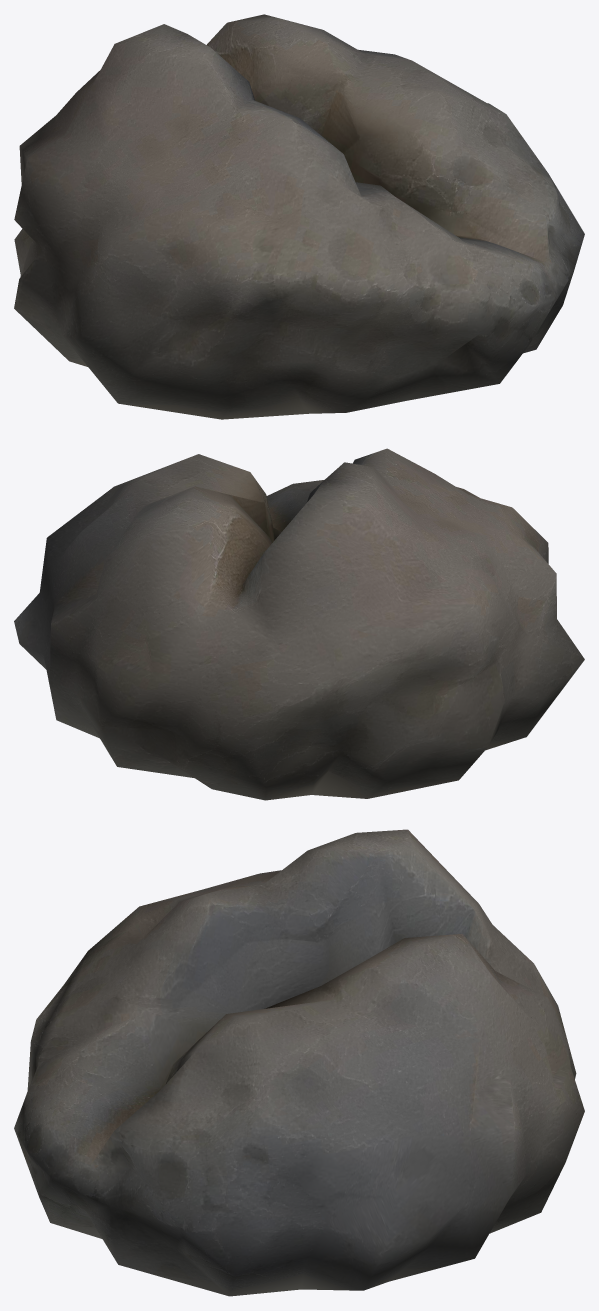
The model's file is legacy_asteroid_03.glb.
3 renders of one model, top to bottom at view 1: azimuth 30°, elevation 25°; view 2: azimuth 150°, elevation 25°; view 3: azimuth 270°, elevation 25°, orthographic. The views are drawn at different scales.
Parts seen in each view (by area): view 1: tripo_node_a308048f-56dc-4d77-b283-c75def5bc7dd; view 2: tripo_node_a308048f-56dc-4d77-b283-c75def5bc7dd; view 3: tripo_node_a308048f-56dc-4d77-b283-c75def5bc7dd.
Boxes of the visible parts, bbox=[...] form: tripo_node_a308048f-56dc-4d77-b283-c75def5bc7dd: bbox=[14, 14, 584, 419]; tripo_node_a308048f-56dc-4d77-b283-c75def5bc7dd: bbox=[14, 448, 584, 800]; tripo_node_a308048f-56dc-4d77-b283-c75def5bc7dd: bbox=[14, 829, 584, 1296].
Bounding box in the file's own units: 0.9875 × 0.5729 × 0.9137.
Materials: 1 (1 with a texture image).
